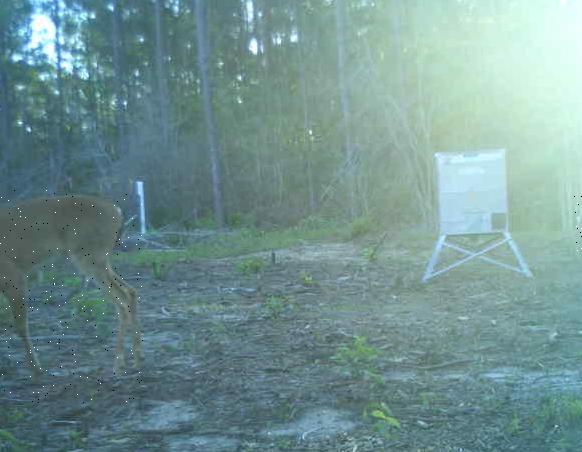Deer: (0, 190, 144, 403), (574, 195, 582, 258)
